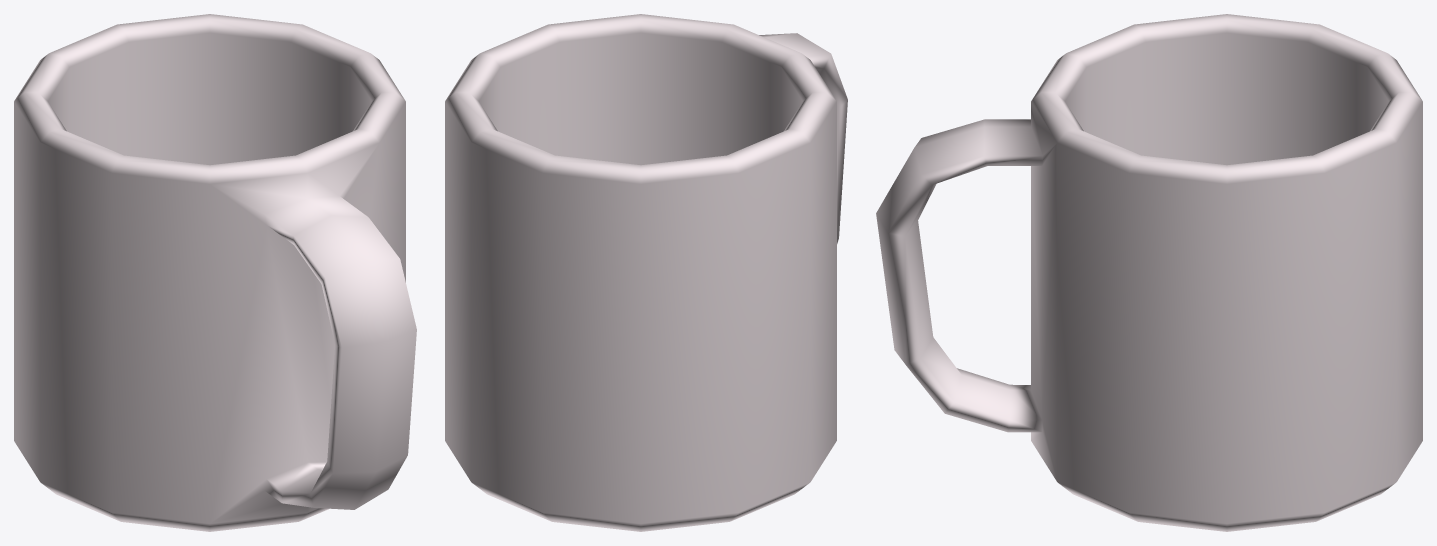
The model's file is mesh_mug.fbx.
3 renders of one model, left to right at view 1: azimuth 30°, elevation 25°; view 2: azimuth 150°, elevation 25°; view 3: azimuth 270°, elevation 25°, orthographic.
Parts seen in each view (by area): view 1: pCylinder17; view 2: pCylinder17; view 3: pCylinder17.
Part boxes in pixels (x1,y1,x2,y2): pCylinder17: (14, 14, 416, 531); pCylinder17: (445, 14, 847, 531); pCylinder17: (876, 14, 1422, 531).
Bounding box in the file's own units: 4.1 × 4.21 × 5.73.
